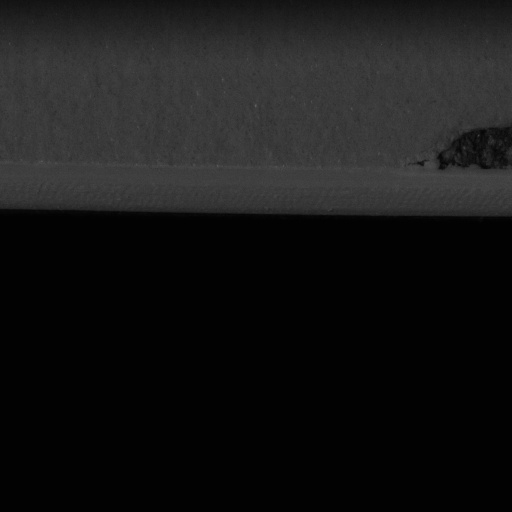bengque: (436, 123, 511, 168)
